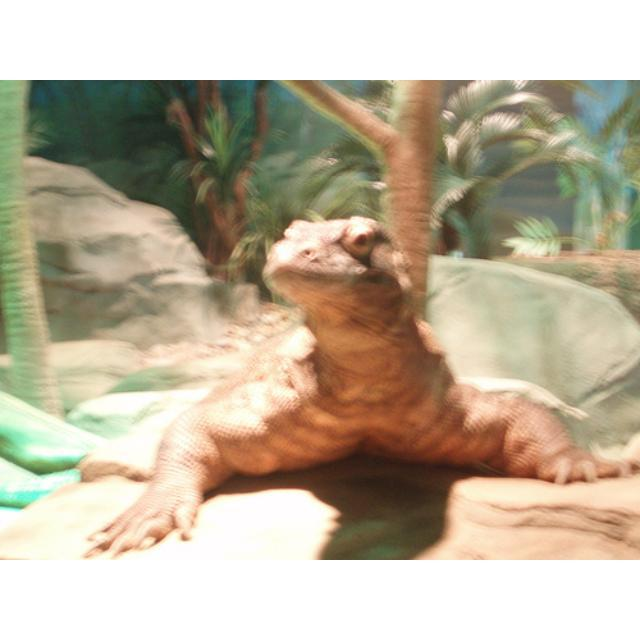KomodoDragon: (74, 213, 628, 557)
